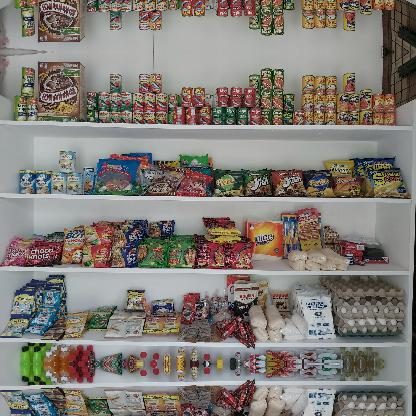Koko-Krunch: (37, 60, 85, 122), (37, 0, 86, 44)
